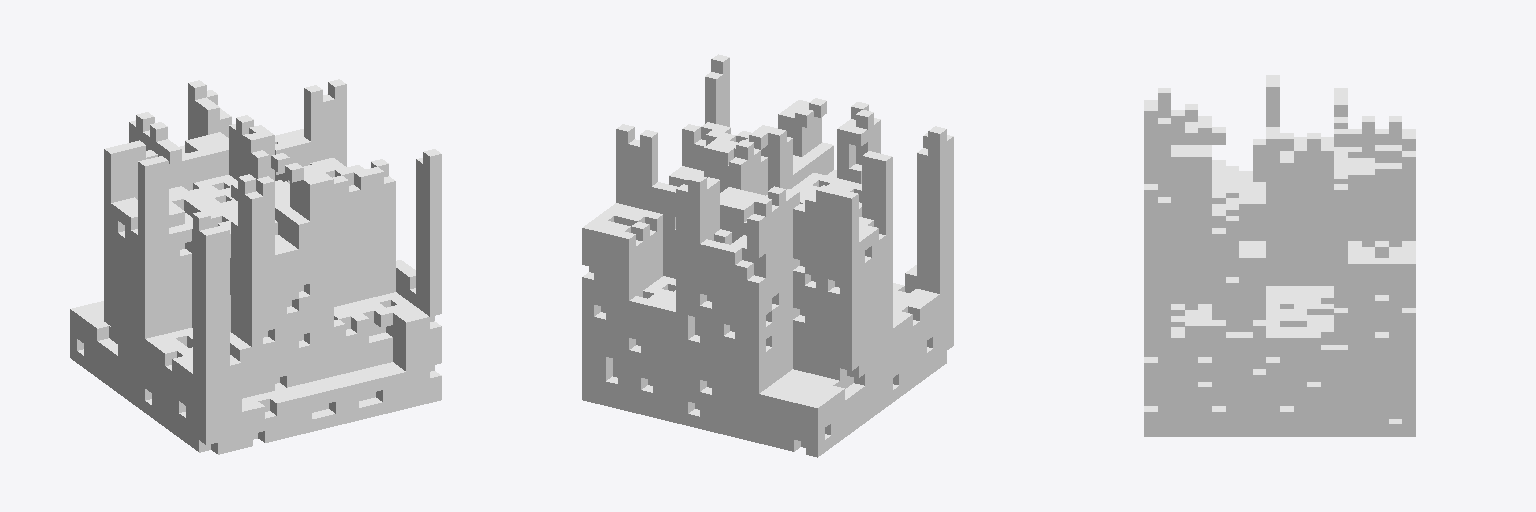
File: SpikeVar1.obj
3 renders of one model, left to right at view 1: azimuth 30°, elevation 25°; view 2: azimuth 150°, elevation 25°; view 3: azimuth 270°, elevation 25°, orthographic.
Visible parts, largest first — view 1: object 1; view 2: object 1; view 3: object 1.
Boxes of the visible parts, <box> form: object 1: <box>70,79,441,454</box>; object 1: <box>582,54,953,457</box>; object 1: <box>1144,75,1415,436</box>.
Bounding box in the file's own units: 2 × 2 × 2.